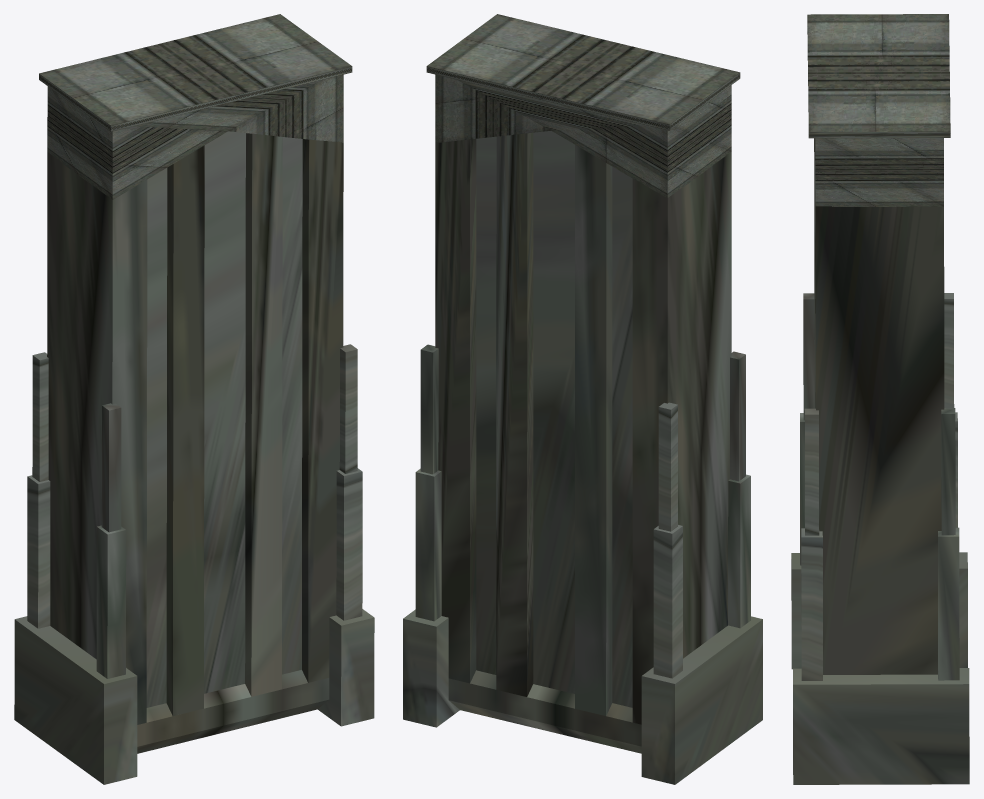
File: bldg1.dae
The picture shows the model from 3 angles, left to right: view 1: azimuth 30°, elevation 25°; view 2: azimuth 150°, elevation 25°; view 3: azimuth 270°, elevation 25°; orthographic projection.
Parts seen in each view (by area): view 1: bldg1; view 2: bldg1; view 3: bldg1.
Part boxes in pixels (left/top/right/bottom): bldg1: left=14, top=14, right=374, bottom=784; bldg1: left=403, top=14, right=762, bottom=784; bldg1: left=791, top=14, right=969, bottom=784.
Bounding box in the file's own units: 2.2 × 1.26 × 5.03.
1 material, 1 textured.
